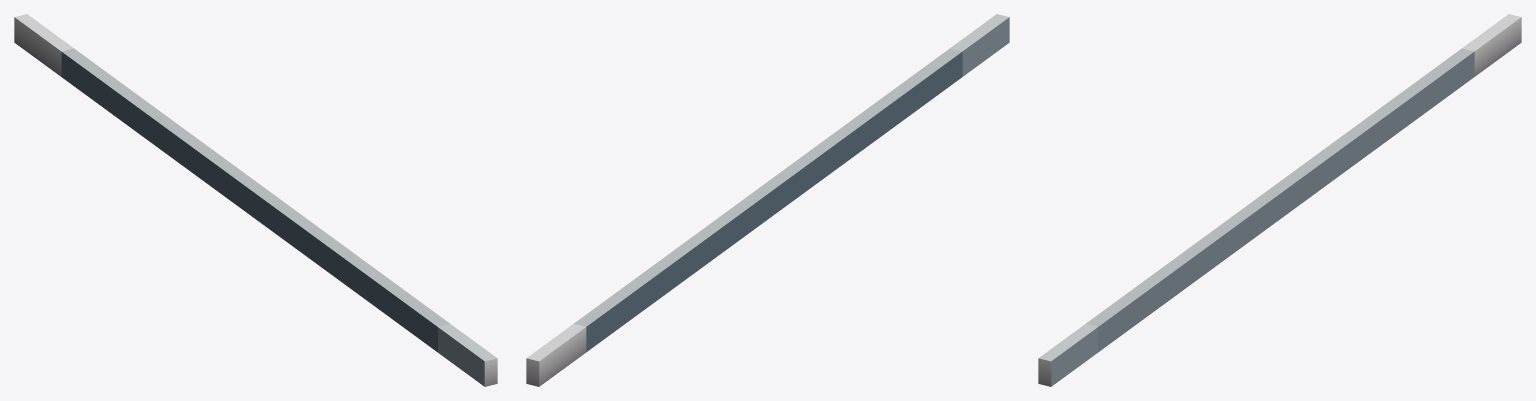
The model's file is Grindrail01.gltf.
3 renders of one model, left to right at view 1: azimuth 30°, elevation 25°; view 2: azimuth 150°, elevation 25°; view 3: azimuth 330°, elevation 25°, orthographic.
Parts seen in each view (by area): view 1: Grindrail01Mesh; view 2: Grindrail01Mesh; view 3: Grindrail01Mesh.
Boxes of the visible parts, box(x1,y1,x2,y2) form: Grindrail01Mesh: box(14, 14, 497, 386); Grindrail01Mesh: box(526, 14, 1009, 386); Grindrail01Mesh: box(1038, 14, 1521, 386).
Bounding box in the file's own units: 0.1563 × 0.3 × 10.
